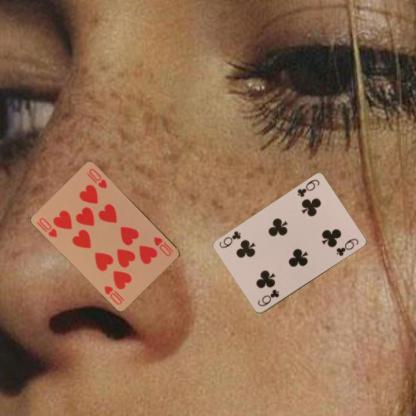10h: (151, 234, 175, 258), (37, 215, 59, 239)
6c: (294, 177, 320, 199), (255, 287, 280, 308)
